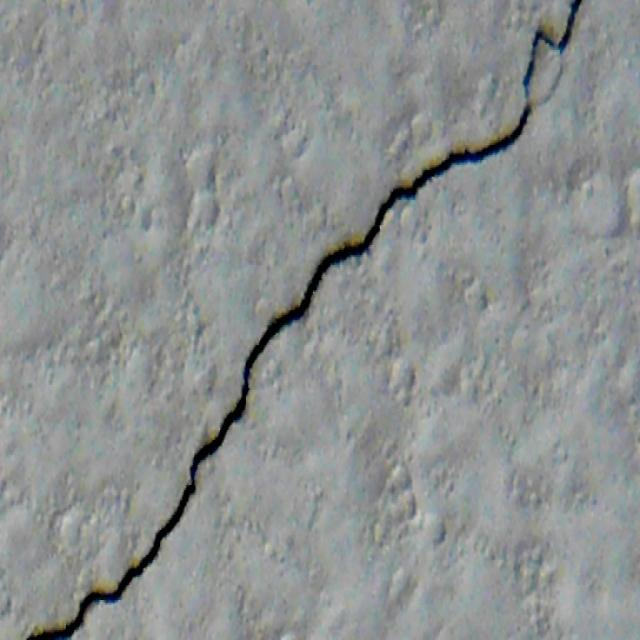crack: (23, 270, 318, 638), (319, 0, 585, 291)
